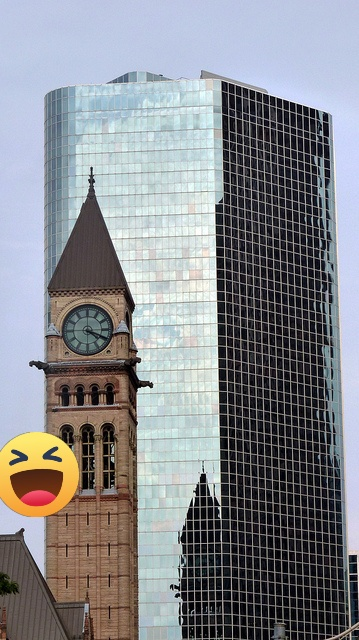haha: (0, 432, 79, 517)
